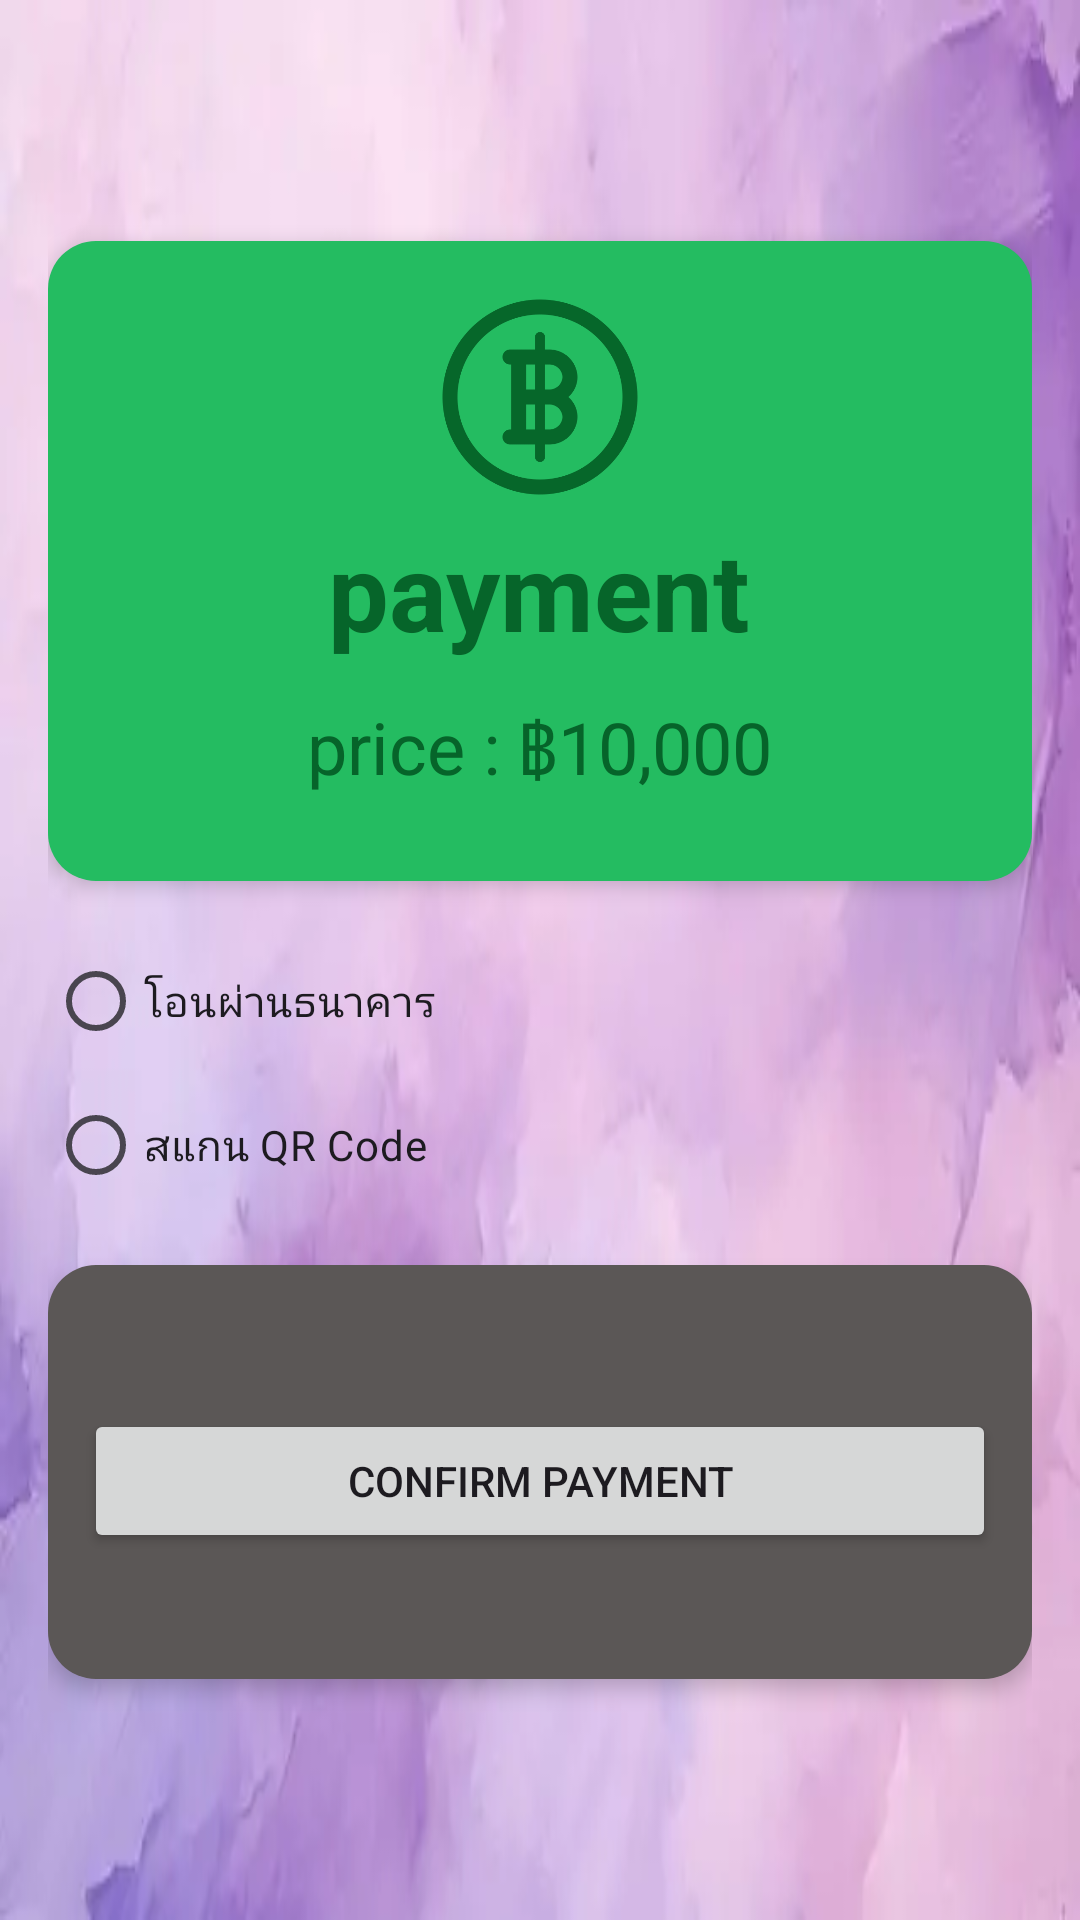

Icons on this 1080x1920 Android screen, each with the point to tap as point (x, y):
moneyuncommon: point (540, 397)
